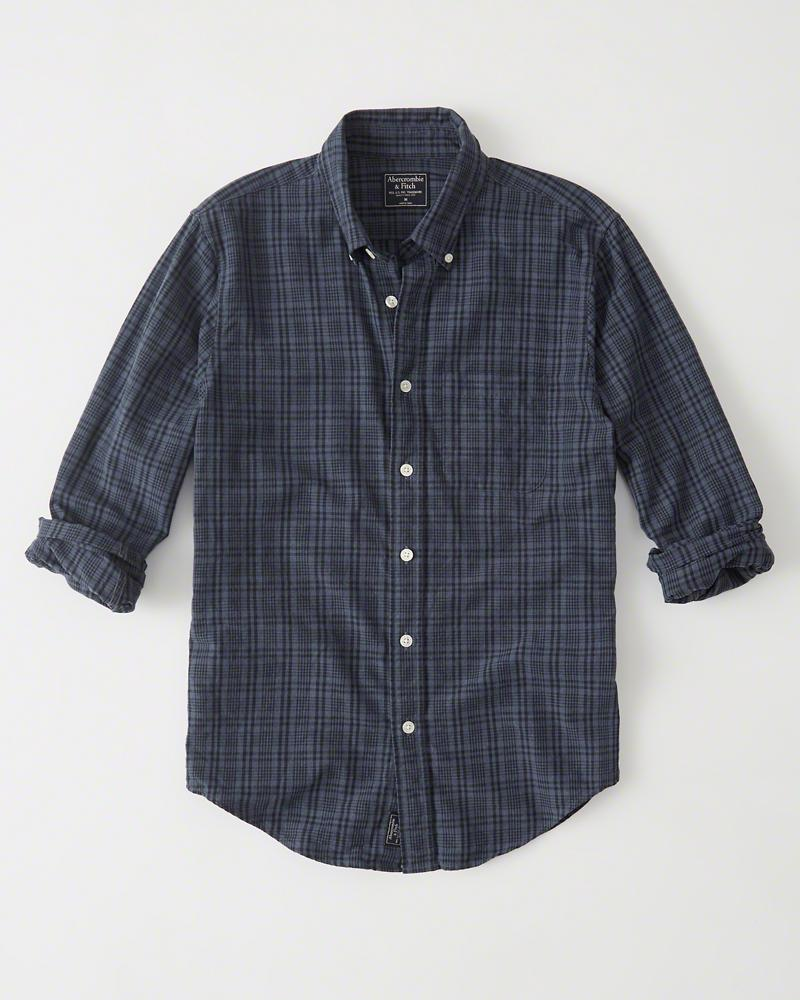teeshirt: (21, 98, 773, 869)
